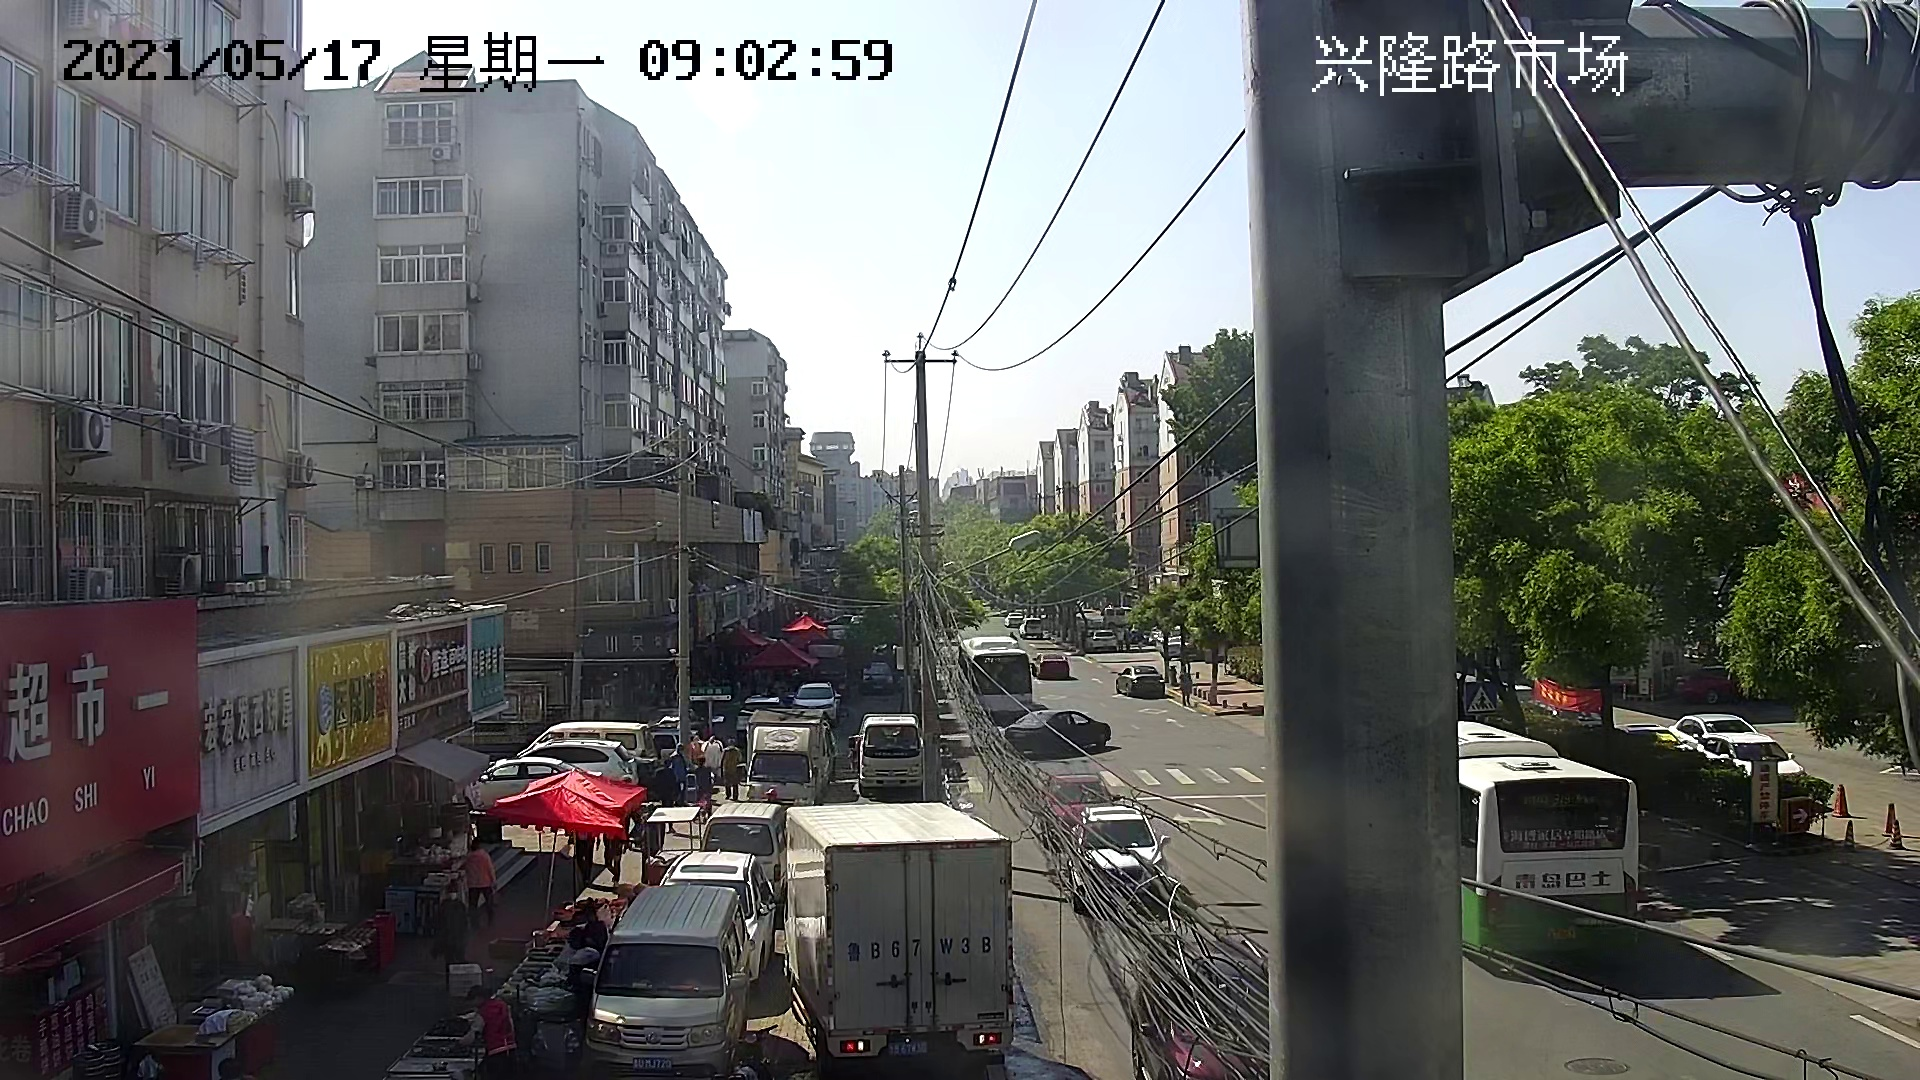umbrella: (483, 782, 628, 840), (520, 766, 649, 819), (733, 637, 822, 669), (708, 622, 778, 650), (781, 613, 827, 632)
